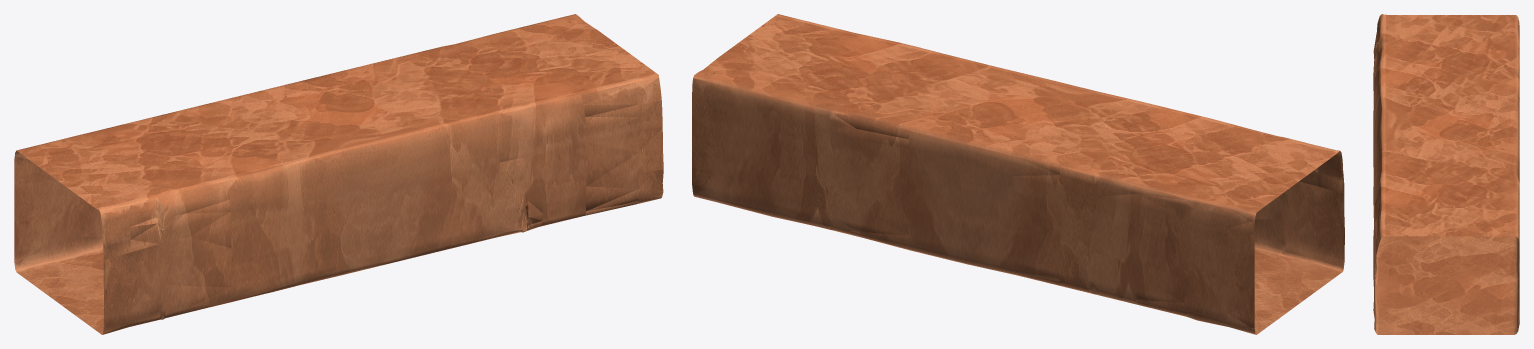
Rendered from tread.glb.
The picture shows the model from 3 angles, left to right: view 1: azimuth 30°, elevation 25°; view 2: azimuth 150°, elevation 25°; view 3: azimuth 270°, elevation 25°; orthographic projection. The views are drawn at different scales.
Parts seen in each view (by area): view 1: Mesh_0; view 2: Mesh_0; view 3: Mesh_0.
Part boxes in pixels (<box>): Mesh_0: <box>14,14,663,334</box>; Mesh_0: <box>692,14,1344,334</box>; Mesh_0: <box>1373,14,1519,334</box>.
Bounding box in the file's own units: 2 × 0.42 × 0.56.
1 material, 1 textured.
